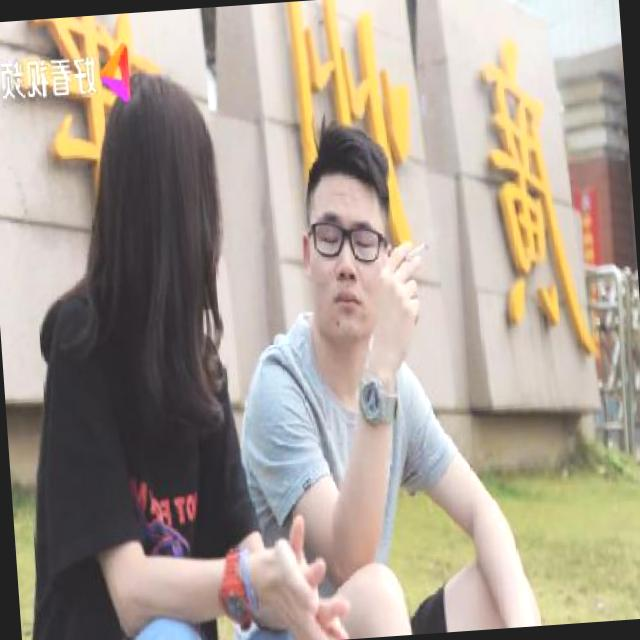smoke: (394, 232, 432, 273)
